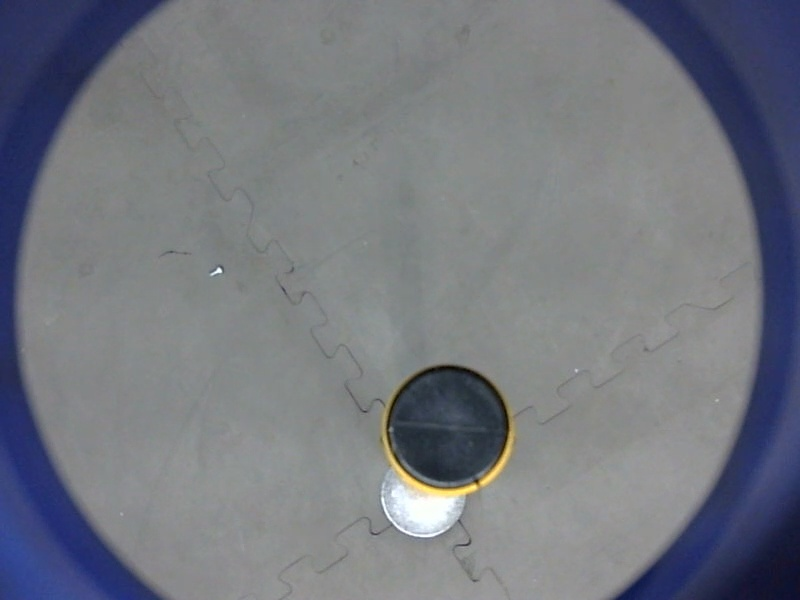tip: (373, 359, 525, 502)
